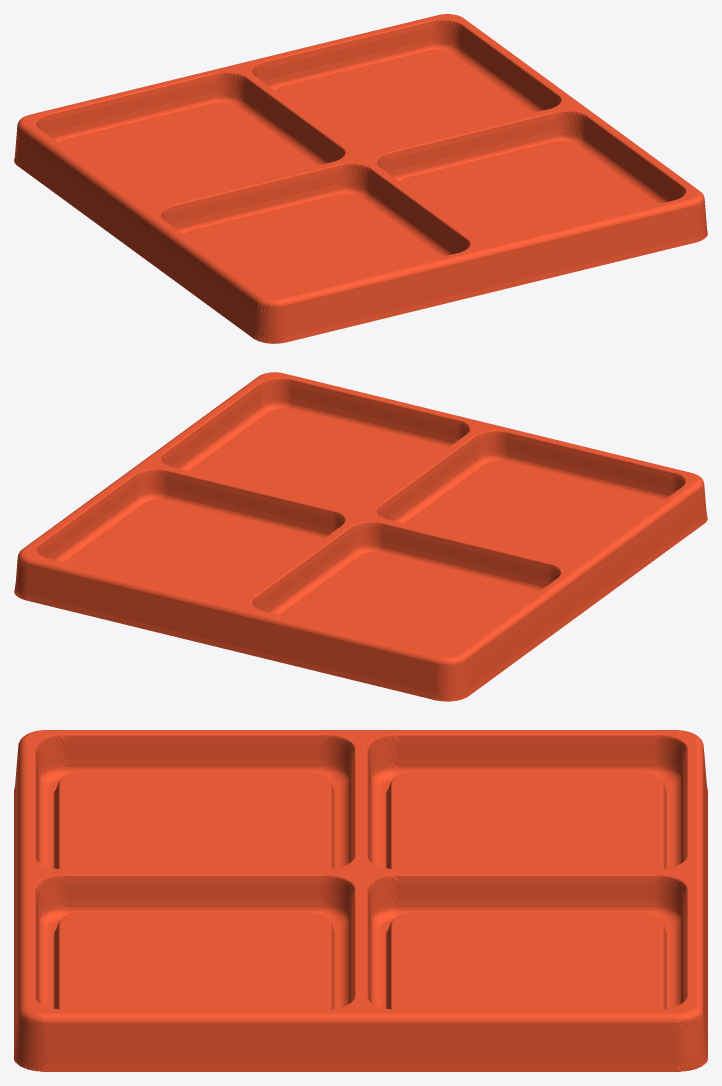
Rendered from mold.glb.
3 views of the same model, one above another, from view 1: azimuth 30°, elevation 25°; view 2: azimuth 150°, elevation 25°; view 3: azimuth 270°, elevation 25° (orthographic). The views are drawn at different scales.
Parts seen in each view (by area): view 1: geometry_0; view 2: geometry_0; view 3: geometry_0.
Part boxes in pixels (x1,y1,x2,y2): geometry_0: (14, 14, 707, 343); geometry_0: (14, 372, 707, 701); geometry_0: (14, 730, 707, 1071).
Bounding box in the file's own units: 0.1946 × 0.0165 × 0.1946.
